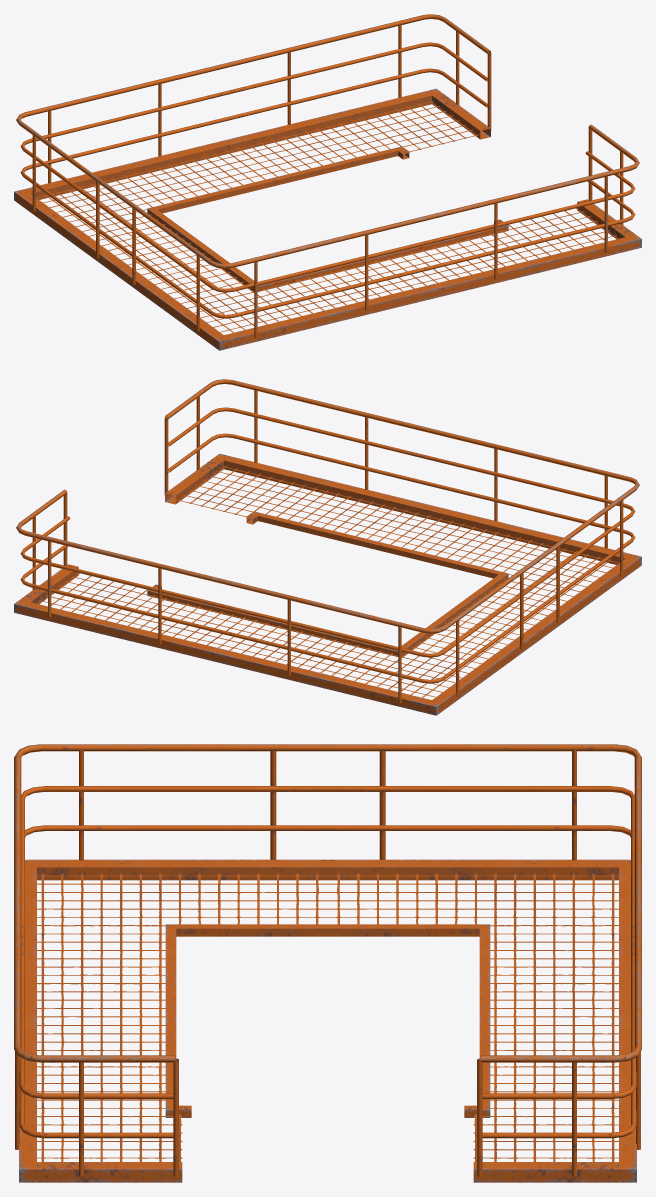
The model's file is PlatformArmBack.fbx.
The picture shows the model from 3 angles, top to bottom: view 1: azimuth 30°, elevation 25°; view 2: azimuth 150°, elevation 25°; view 3: azimuth 270°, elevation 25°; orthographic projection. The views are drawn at different scales.
Parts seen in each view (by area): view 1: Platform_Arm_Back_LOD0; view 2: Platform_Arm_Back_LOD0; view 3: Platform_Arm_Back_LOD0.
Part boxes in pixels (x1,y1,x2,y2): Platform_Arm_Back_LOD0: (14,14,641,350); Platform_Arm_Back_LOD0: (14,379,641,715); Platform_Arm_Back_LOD0: (14,744,641,1182).
Size of what is drawn, in the model's own units: 5.15 by 0.9717 by 4.35.
